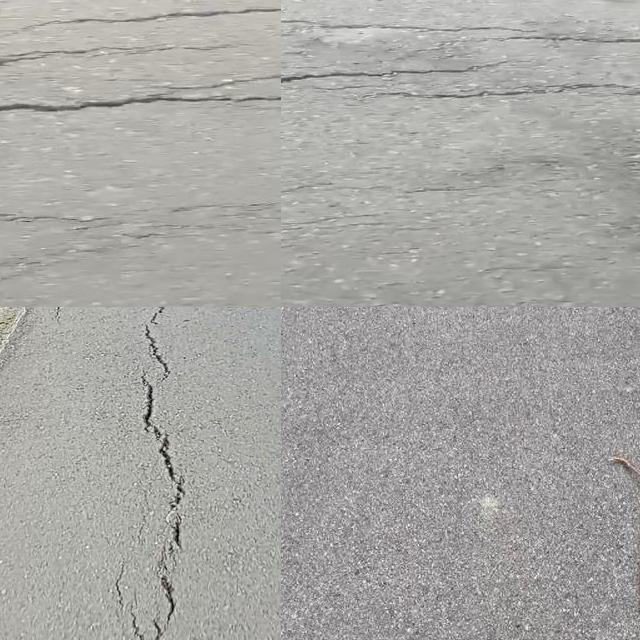Melintang: (0, 74, 281, 131), (0, 0, 281, 41), (281, 53, 513, 90)
Memanjang: (130, 307, 191, 640)
